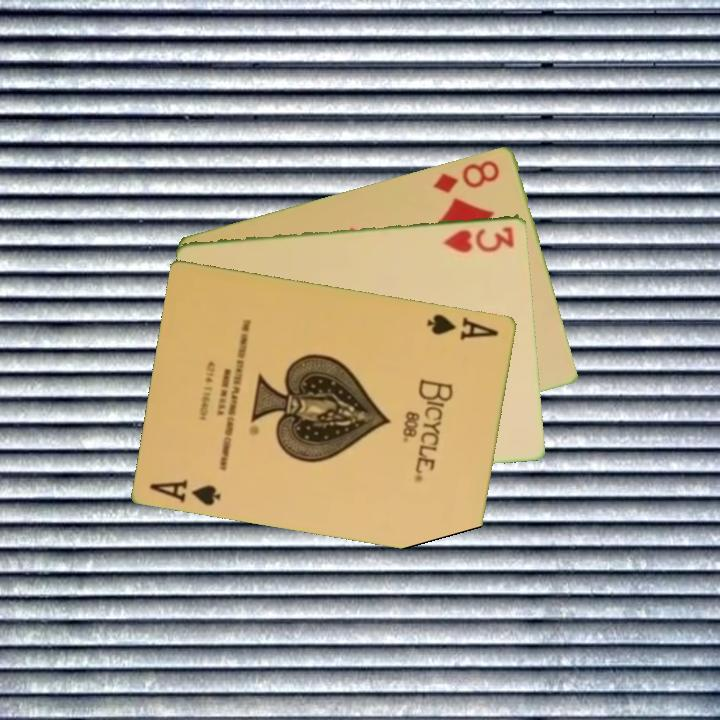3h: (440, 222, 518, 256)
8d: (429, 156, 503, 195)
As: (423, 310, 502, 343), (146, 475, 224, 508)
